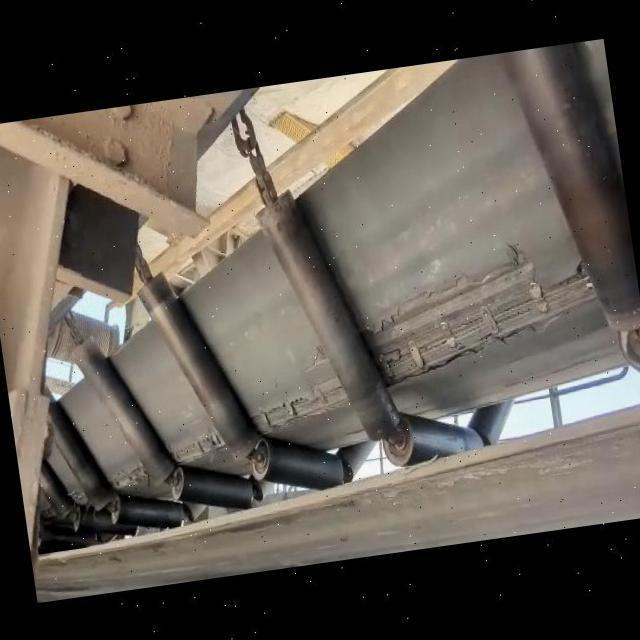Tear: (363, 229, 608, 393), (250, 369, 354, 435), (164, 429, 237, 468), (111, 457, 152, 490)
